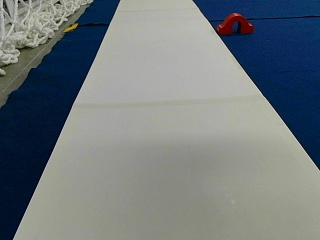bridge: (218, 13, 253, 33)
